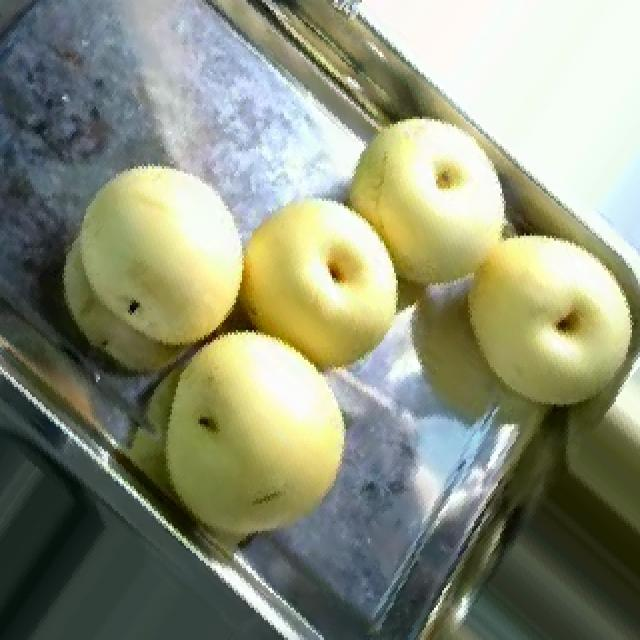Fruit: (108, 295, 370, 571), (28, 136, 258, 402), (318, 90, 540, 318), (436, 188, 640, 436), (220, 169, 432, 394)
